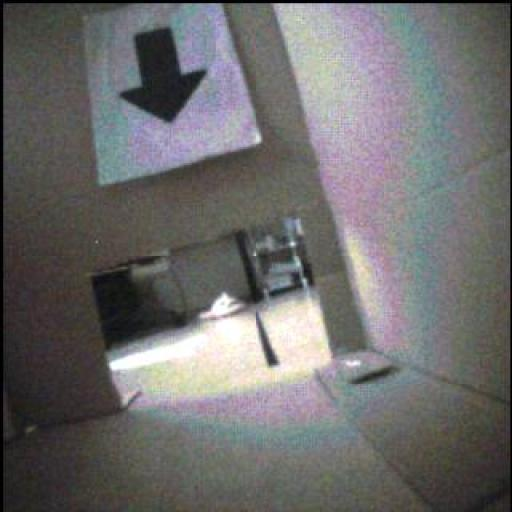arrow: (121, 30, 207, 123)
